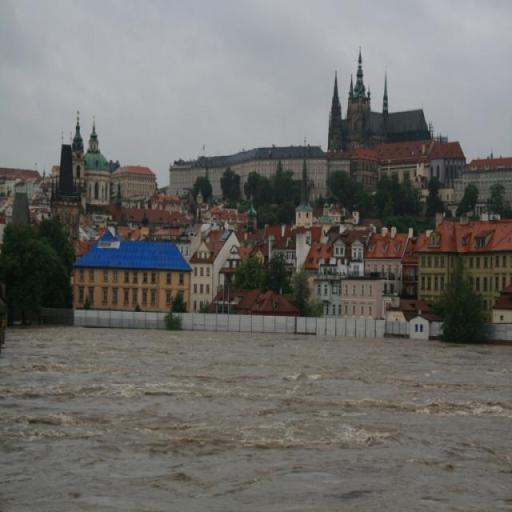flood: (0, 327, 512, 512)
house: (328, 47, 433, 139), (76, 233, 196, 310), (170, 146, 327, 184), (196, 224, 240, 308), (459, 220, 512, 284), (420, 222, 453, 304), (421, 138, 467, 196), (368, 231, 408, 285), (111, 204, 176, 231), (240, 286, 298, 316), (342, 278, 384, 319), (469, 154, 512, 191), (111, 166, 157, 200), (0, 168, 41, 197), (314, 276, 342, 314), (208, 206, 247, 228), (492, 281, 512, 323), (294, 204, 316, 227), (331, 234, 346, 257), (350, 237, 365, 260), (330, 206, 342, 224)
